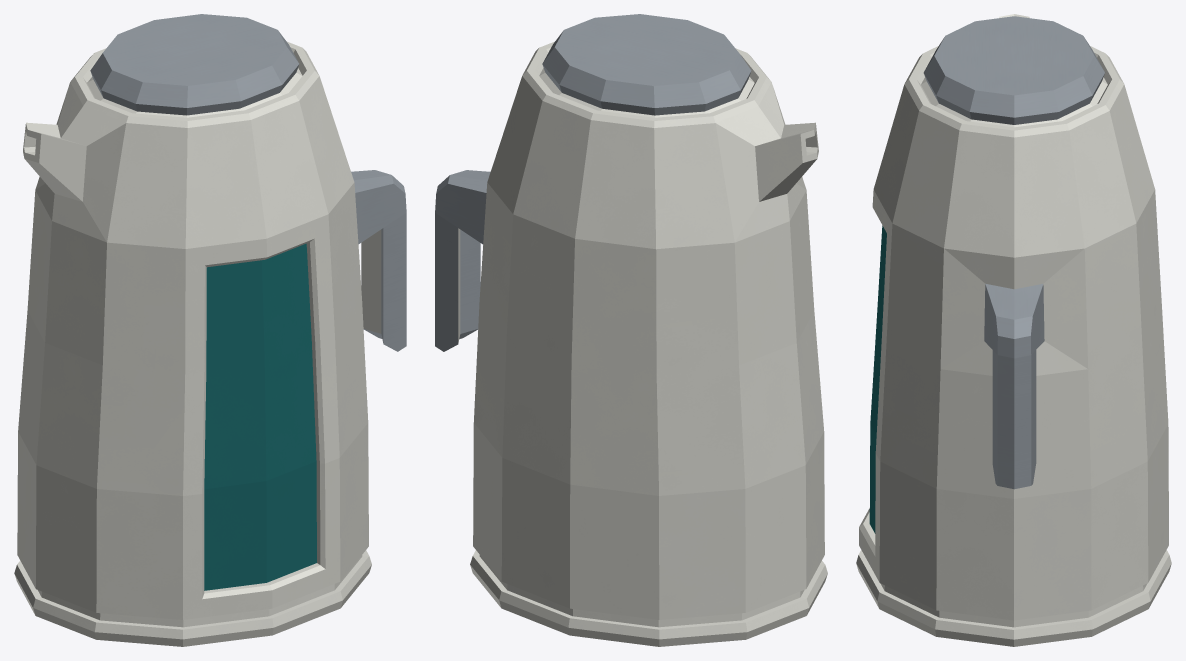
Rendered from 02_kittle_destructible.glb.
3 renders of one model, left to right at view 1: azimuth 30°, elevation 25°; view 2: azimuth 150°, elevation 25°; view 3: azimuth 270°, elevation 25°, orthographic. The views are drawn at different scales.
Visible parts, largest first — view 1: Kettle; view 2: Kettle; view 3: Kettle.
Boxes of the visible parts, x1,y1,x2,y2 form: Kettle: (14, 14, 406, 646); Kettle: (435, 14, 827, 646); Kettle: (856, 14, 1171, 646).
Size of what is drawn, in the model's own units: 0.2595 by 0.3431 by 0.19.
Materials: 3 (3 with a texture image).
